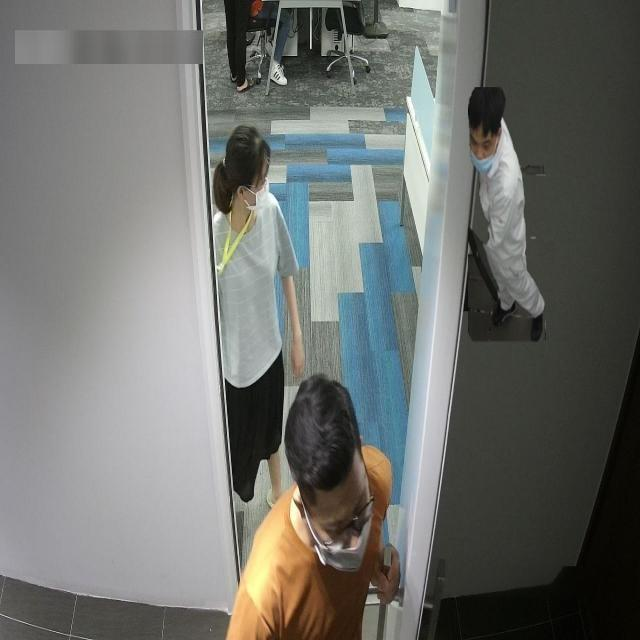hairnet: (467, 118, 498, 171)
